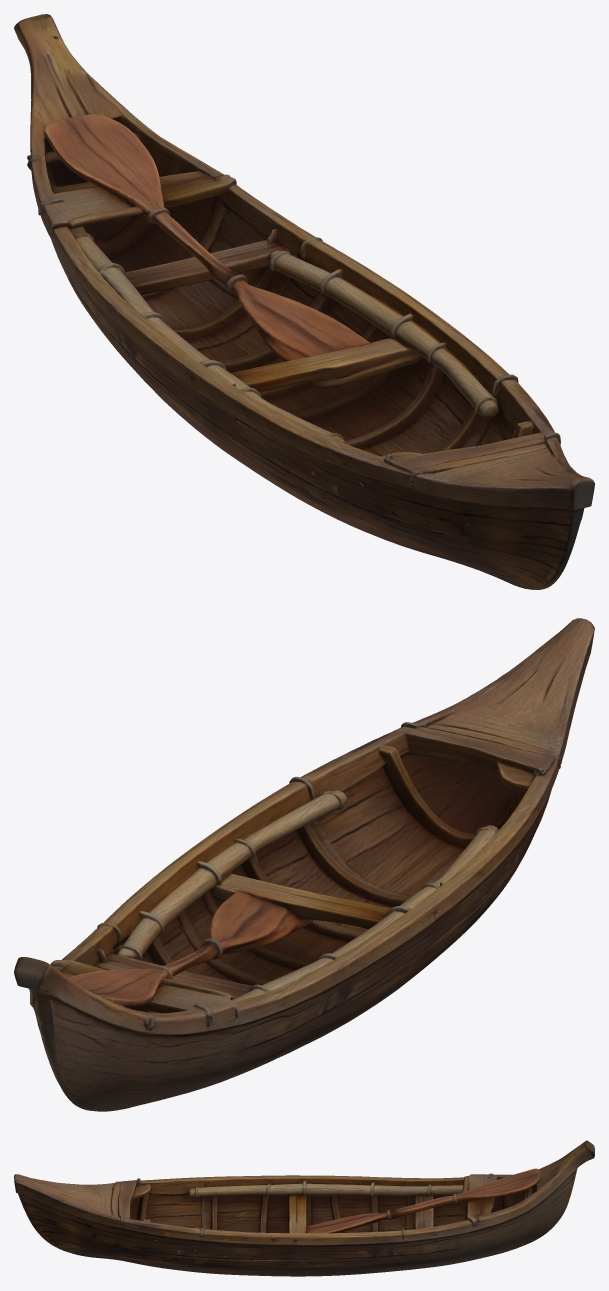
The model's file is decor-pirogue.glb.
The picture shows the model from 3 angles, top to bottom: view 1: azimuth 30°, elevation 25°; view 2: azimuth 150°, elevation 25°; view 3: azimuth 270°, elevation 25°; orthographic projection. The views are drawn at different scales.
Parts seen in each view (by area): view 1: model; view 2: model; view 3: model.
Boxes of the visible parts, x1,y1,x2,y2 form: model: (14, 14, 594, 589); model: (14, 618, 594, 1111); model: (14, 1140, 594, 1276).
Bounding box in the file's own units: 0.4771 × 0.4301 × 1.9.
Materials: 1 (1 with a texture image).
